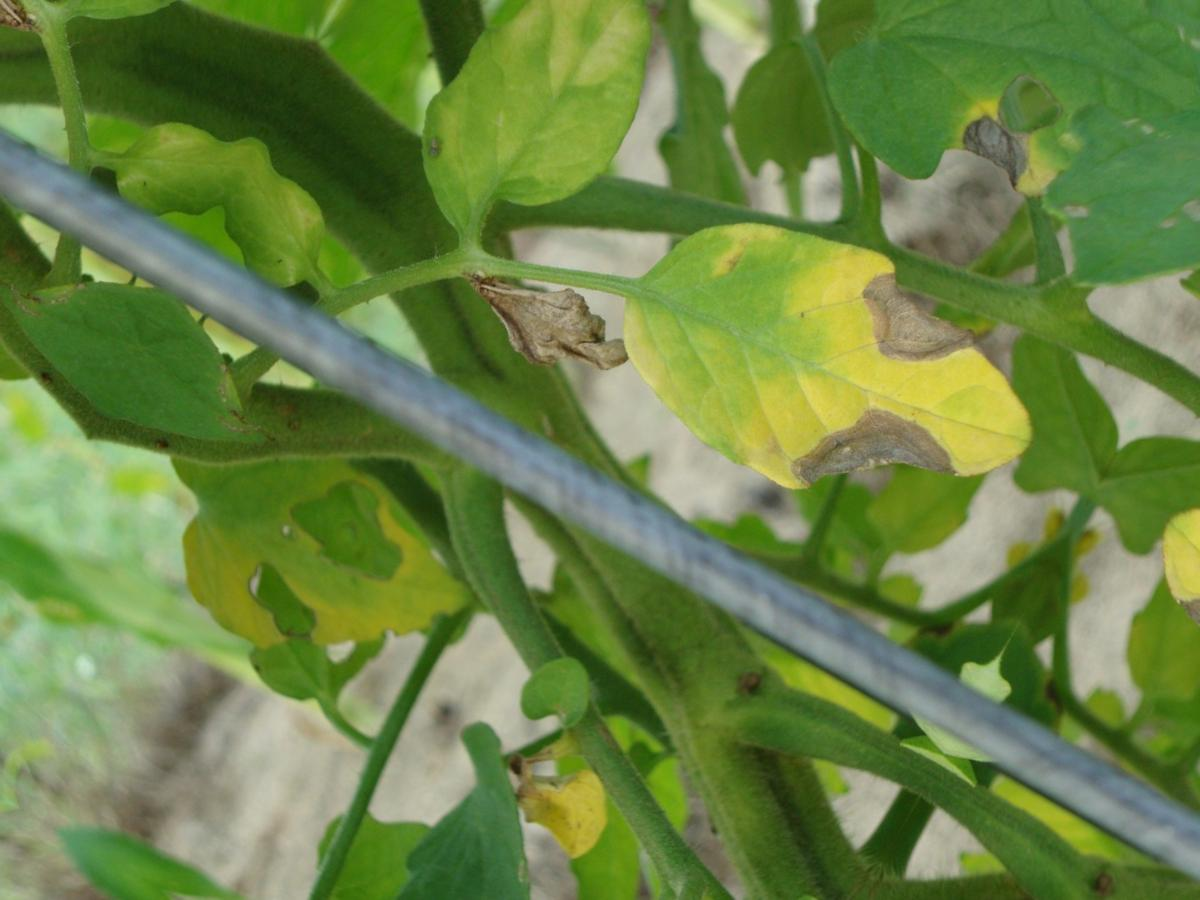Tomato Early blight leaf: (572, 161, 1068, 590)
